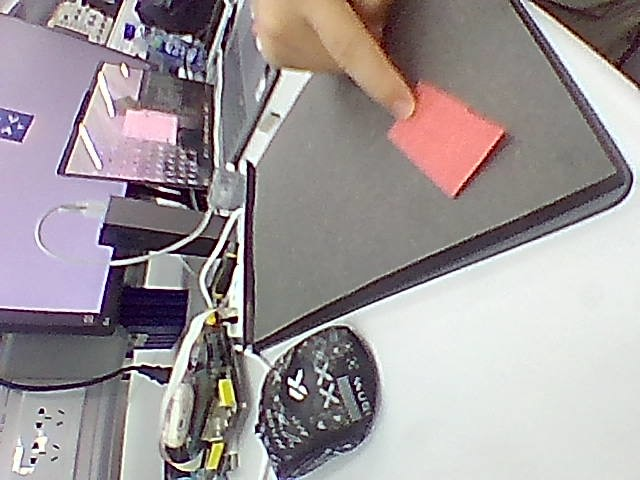card: (388, 82, 504, 197)
